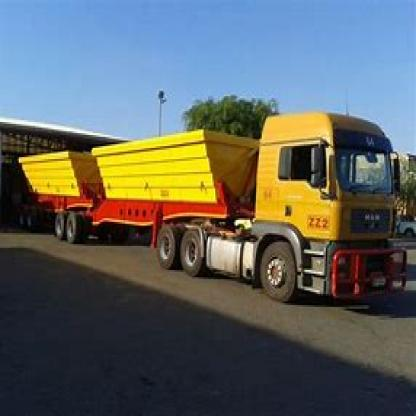dump_truck: (13, 100, 407, 322)
